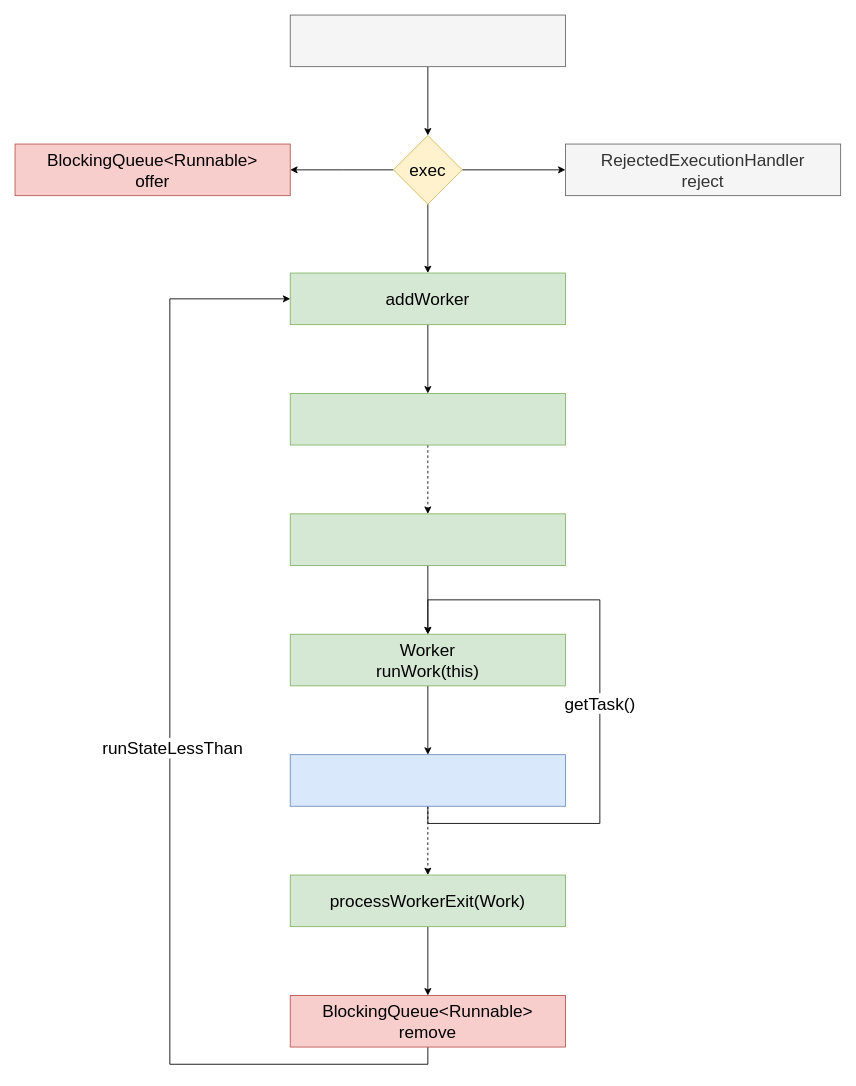
Some shapes in this 856 by 1086 pixel diagram are drawn without their labels. Each missing label, with the box of its shape:
Command --> Runnable: (289, 14, 565, 67)
Command run(): (289, 754, 565, 806)
Worker -->AQS-->Runnable Thread.start(): (289, 393, 565, 445)
Worker run(): (289, 513, 565, 565)
